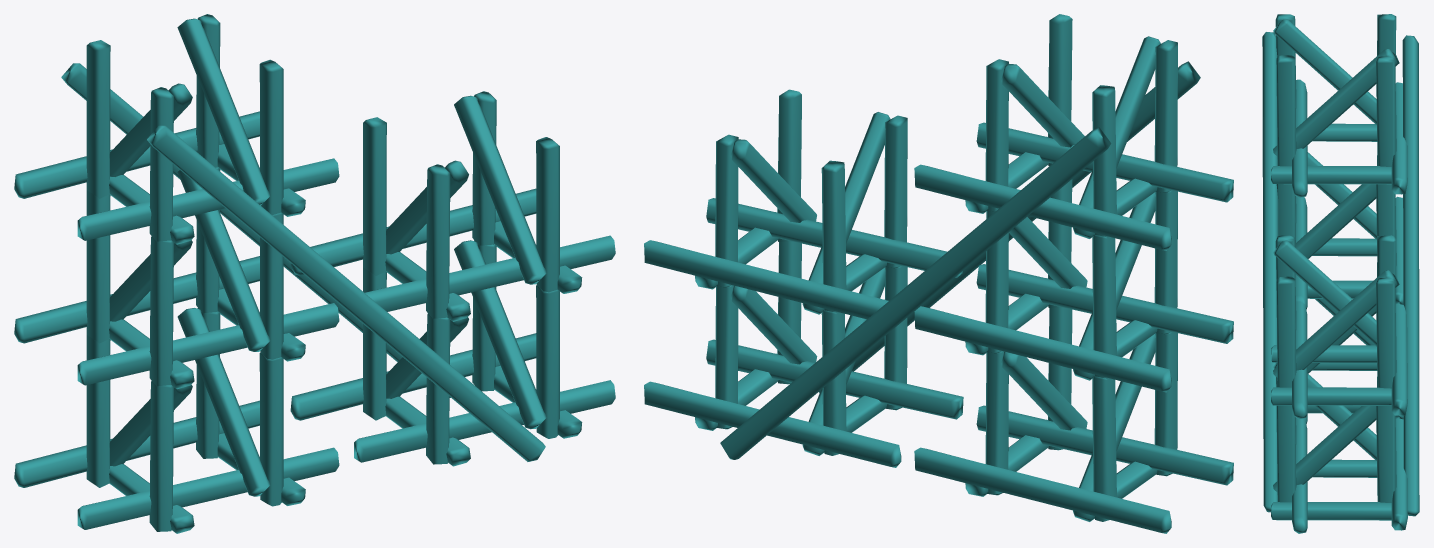
File: SM_Construction_Kit_Scaffolding_Half.fbx
The picture shows the model from 3 angles, left to right: view 1: azimuth 30°, elevation 25°; view 2: azimuth 150°, elevation 25°; view 3: azimuth 270°, elevation 25°; orthographic projection. The views are drawn at different scales.
Parts seen in each view (by area): view 1: Construction_Kit_Scaffolding_Half; view 2: Construction_Kit_Scaffolding_Half; view 3: Construction_Kit_Scaffolding_Half.
Boxes of the visible parts, <box> form: Construction_Kit_Scaffolding_Half: <box>14,14,615,533</box>; Construction_Kit_Scaffolding_Half: <box>644,14,1233,533</box>; Construction_Kit_Scaffolding_Half: <box>1262,14,1419,533</box>.
Size of the model in its own units: 386 by 316 by 124.
